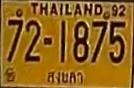1: (60, 20, 65, 62)
2: (25, 19, 41, 62)
5: (109, 21, 124, 62)
7: (6, 19, 22, 61), (90, 20, 106, 62)
8: (73, 20, 88, 61)
SKA: (45, 69, 85, 86)
